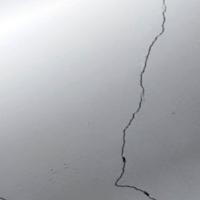crack: (109, 0, 183, 199)
